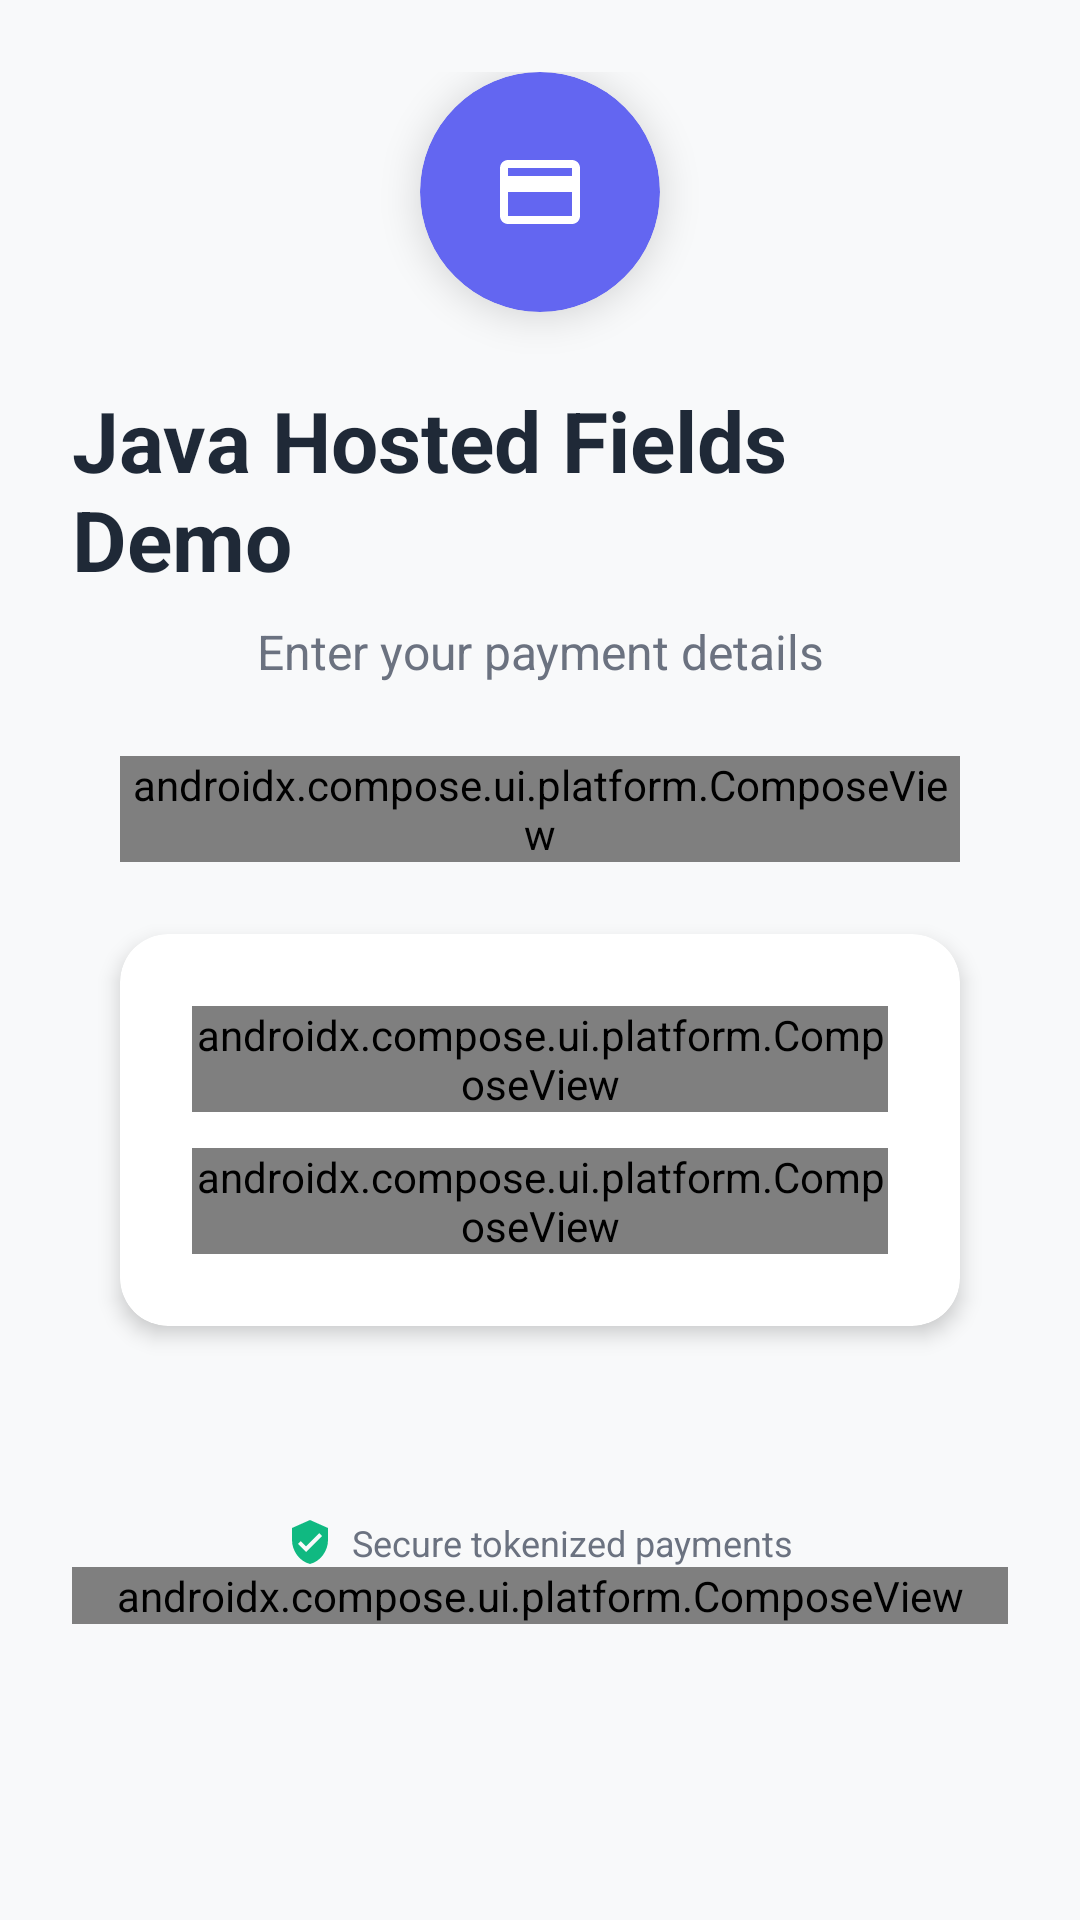

Screen size 1080w x 1920h. Icon name, then its center in pixels as (x,y):
Payment SDK: (540,192)
